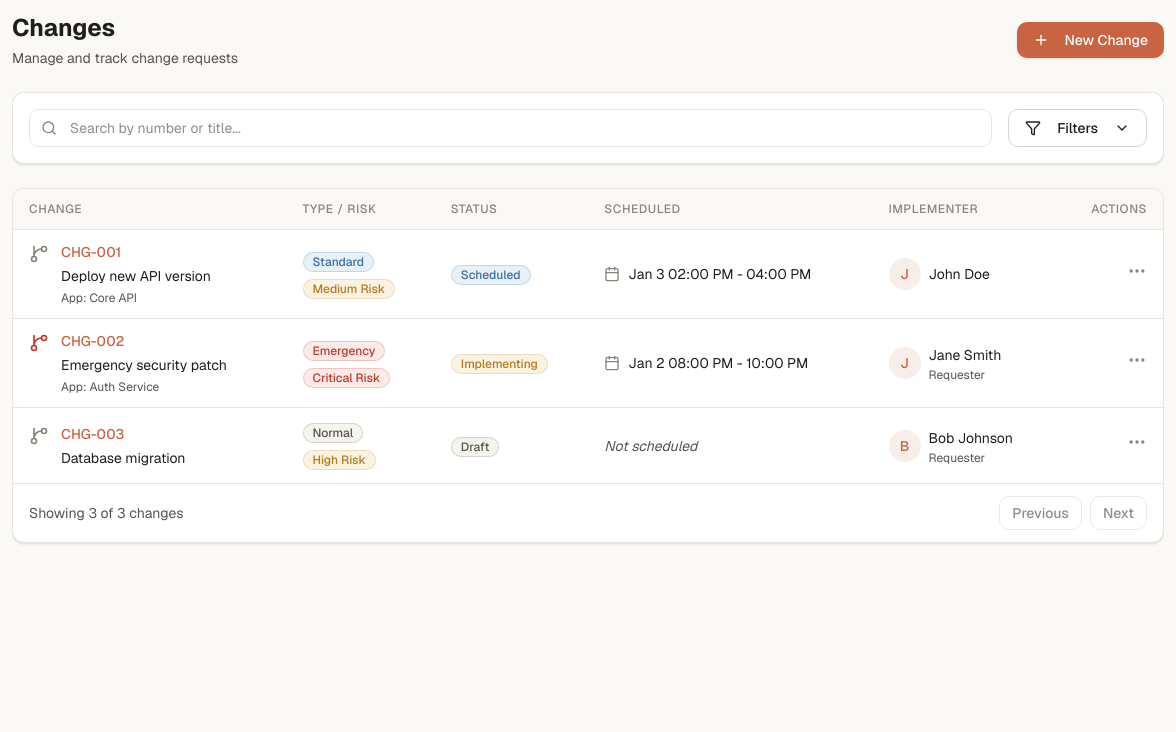
ChangesPage › Search Functionality › filters changes by title
Type "security" into the field with placeholder "Search by number or title..." at (511,128), box [29,109,992,147]
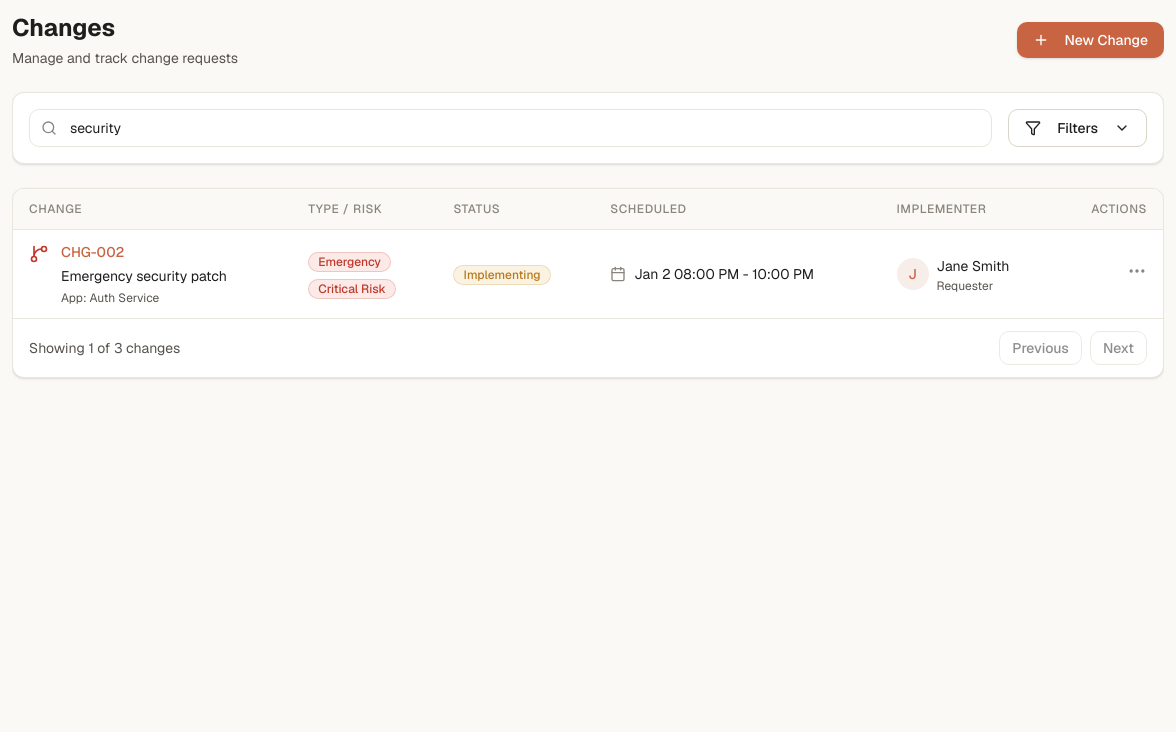
Expected: the link "CHG-002" is shown, [61,242,124,262]
Expected: the link "CHG-001" is gone
Expected: the link "CHG-003" is gone
